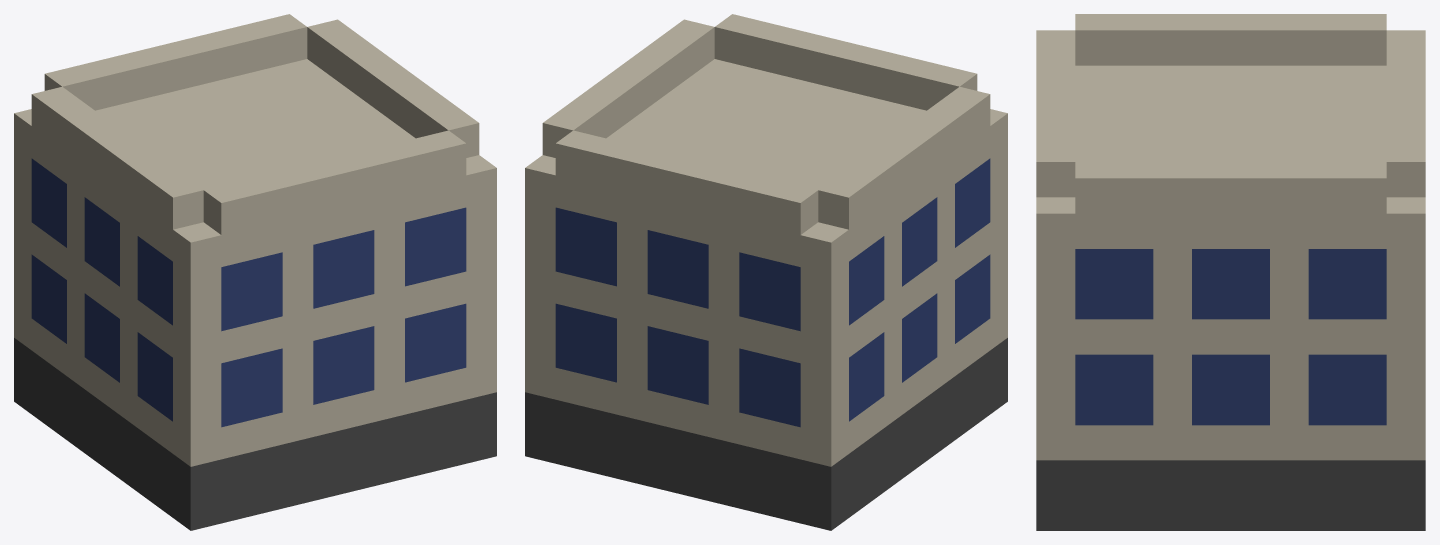
The model's file is Building1.obj.
3 views of the same model, side by side, from view 1: azimuth 30°, elevation 25°; view 2: azimuth 150°, elevation 25°; view 3: azimuth 270°, elevation 25° (orthographic). The views are drawn at different scales.
Bounding box in the file's own units: 1 × 1 × 1.
Materials: 1 (1 with a texture image).
